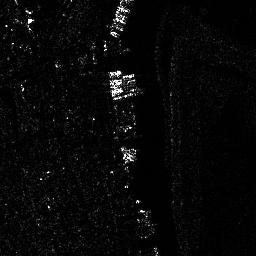ship: (108, 69, 138, 101)
